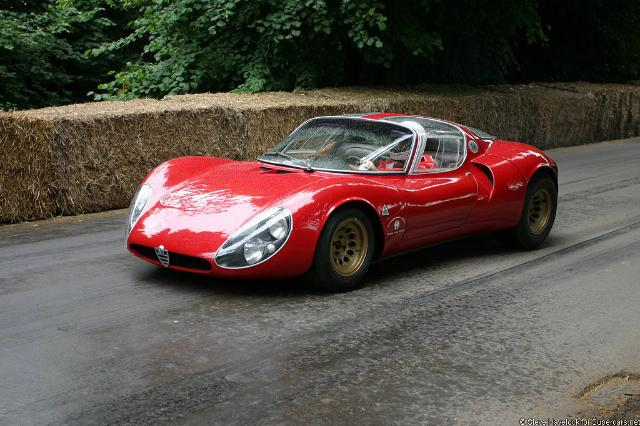alpha-romeo: (125, 113, 560, 293)
